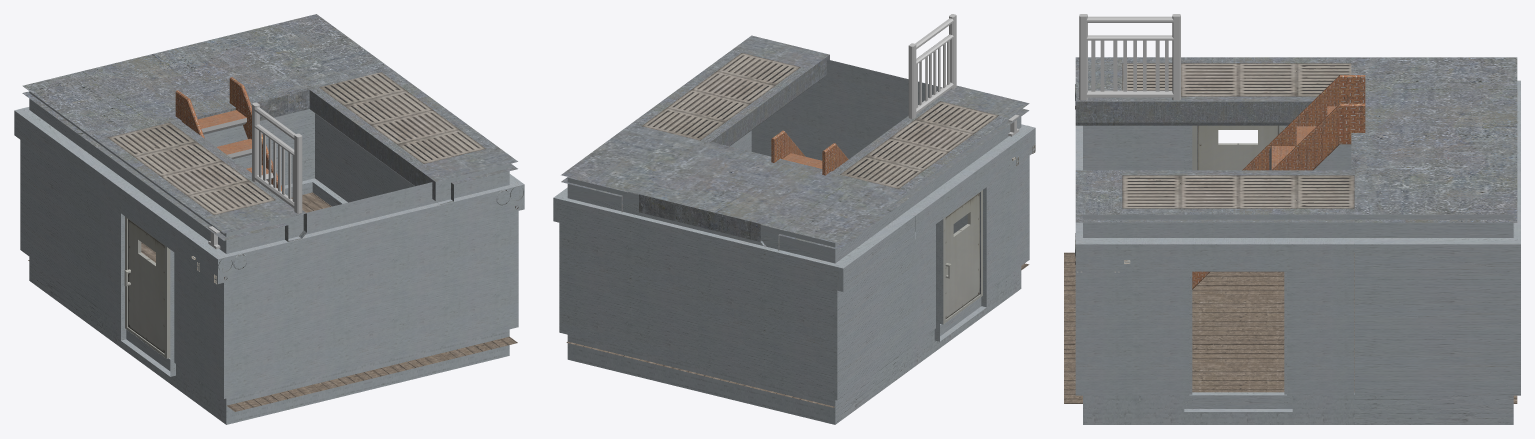
Rendered from stage.fbx.
3 renders of one model, left to right at view 1: azimuth 30°, elevation 25°; view 2: azimuth 150°, elevation 25°; view 3: azimuth 270°, elevation 25°, orthographic. The views are drawn at different scales.
Parts seen in each view (by area): view 1: back_wall, platform_brige, frount_wall, L_wall, platfrom_R, platform_L, door1, fence, staircase3, wood_flooring_end, platfrom_R_end, platfrom_L_end (+1 smaller); view 2: frount_wall, platform_brige, L_wall, back_wall, platfrom_R, platform_L, door1, fence, platfrom_R_end, platfrom_L_end, staircase3, wood_flooring_end1; view 3: R_wall, frount_wall, platform_brige, platform_L, back_wall, platfrom_R, wood_flooring, staircase3, fence, L_wall, door1, platfrom_L_end (+2 smaller).
Part boxes in pixels (<box>): back_wall: <box>196,164,524,424</box>; platform_brige: <box>22,14,391,148</box>; frount_wall: <box>14,91,390,333</box>; L_wall: <box>90,144,208,411</box>; platfrom_R: <box>309,68,496,185</box>; platform_L: <box>98,120,280,225</box>; door1: <box>124,216,170,358</box>; fence: <box>252,102,302,213</box>; staircase3: <box>175,77,281,191</box>; wood_flooring_end: <box>226,336,517,411</box>; platfrom_R_end: <box>414,146,517,204</box>; platfrom_L_end: <box>203,199,306,241</box>; frount_wall: <box>553,177,914,424</box>; platform_brige: <box>561,124,908,250</box>; L_wall: <box>904,122,1015,374</box>; back_wall: <box>731,59,1035,300</box>; platfrom_R: <box>631,50,809,146</box>; platform_L: <box>832,100,1009,198</box>; door1: <box>943,190,982,324</box>; fence: <box>908,14,956,118</box>; platfrom_R_end: <box>732,35,829,88</box>; platfrom_L_end: <box>936,85,1029,124</box>; staircase3: <box>771,130,848,175</box>; wood_flooring_end1: <box>566,341,834,407</box>; R_wall: <box>1122,214,1354,424</box>; frount_wall: <box>1354,80,1520,424</box>; platform_brige: <box>1351,57,1517,222</box>; platform_L: <box>1122,57,1354,125</box>; back_wall: <box>1075,125,1122,424</box>; platfrom_R: <box>1122,170,1354,222</box>; wood_flooring: <box>1192,271,1284,392</box>; staircase3: <box>1192,75,1365,289</box>; fence: <box>1079,14,1180,100</box>; L_wall: <box>1122,125,1354,252</box>; door1: <box>1192,125,1284,170</box>; platfrom_L_end: <box>1075,57,1122,125</box>.
Size of the model in its own units: 16.9 by 14.1 by 19.66.
